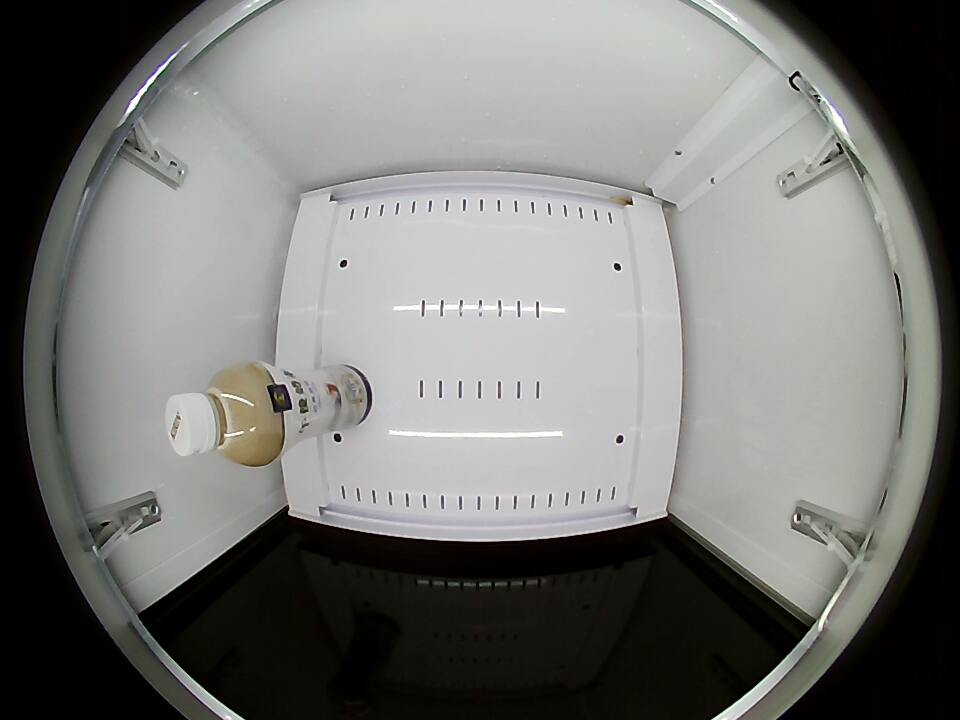wuhounaicha: (166, 364, 283, 467)
